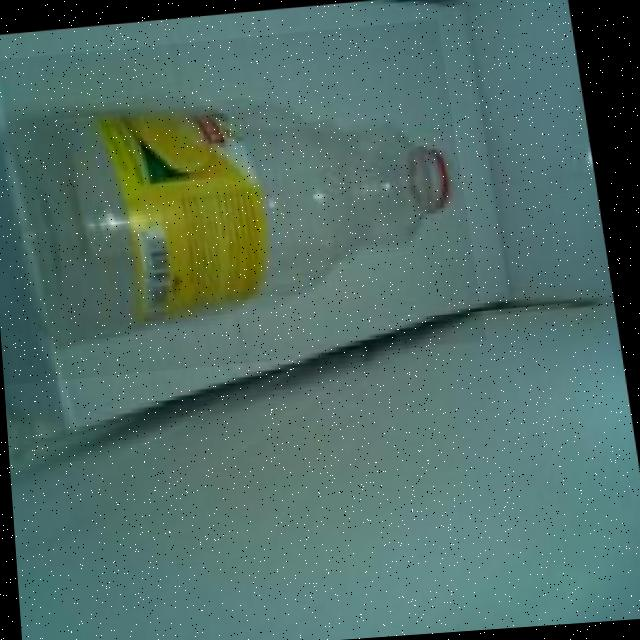bottle: (0, 16, 491, 382)
label: (90, 92, 282, 340)
